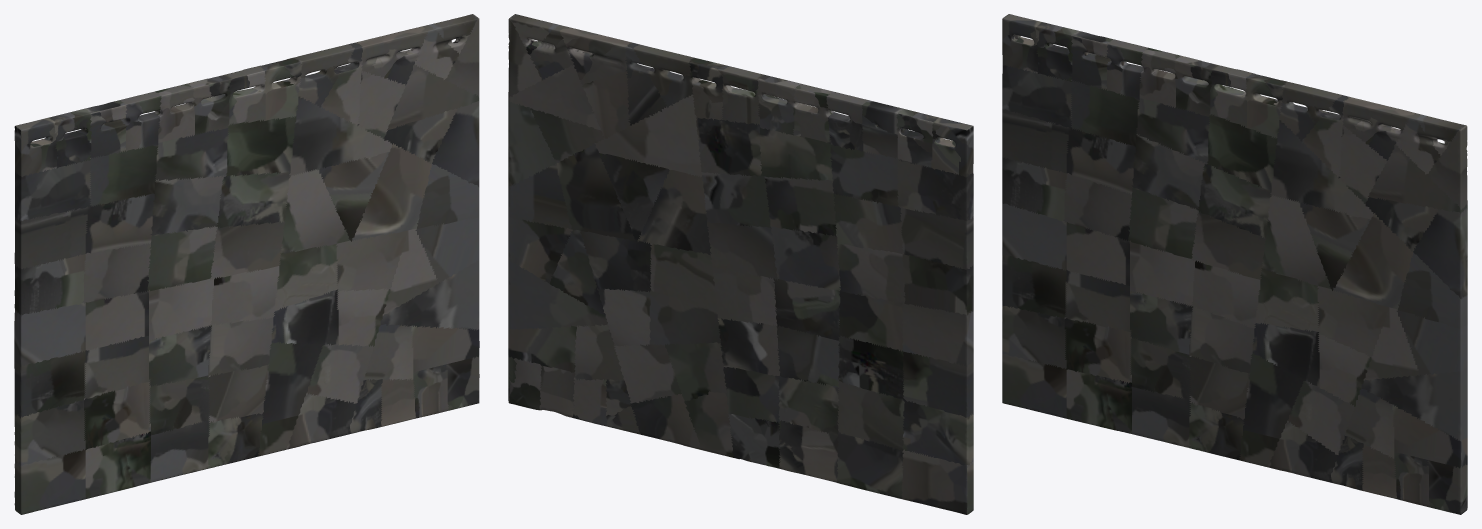
Rendered from Agarose_Gel.fbx.
The picture shows the model from 3 angles, left to right: view 1: azimuth 30°, elevation 25°; view 2: azimuth 150°, elevation 25°; view 3: azimuth 330°, elevation 25°; orthographic projection.
Parts seen in each view (by area): view 1: input; view 2: input; view 3: input.
Boxes of the visible parts, bbox=[...] form: input: bbox=[14, 14, 479, 514]; input: bbox=[508, 14, 973, 514]; input: bbox=[1002, 14, 1467, 514].
Size of the model in its own units: 200 by 160 by 5.21.
